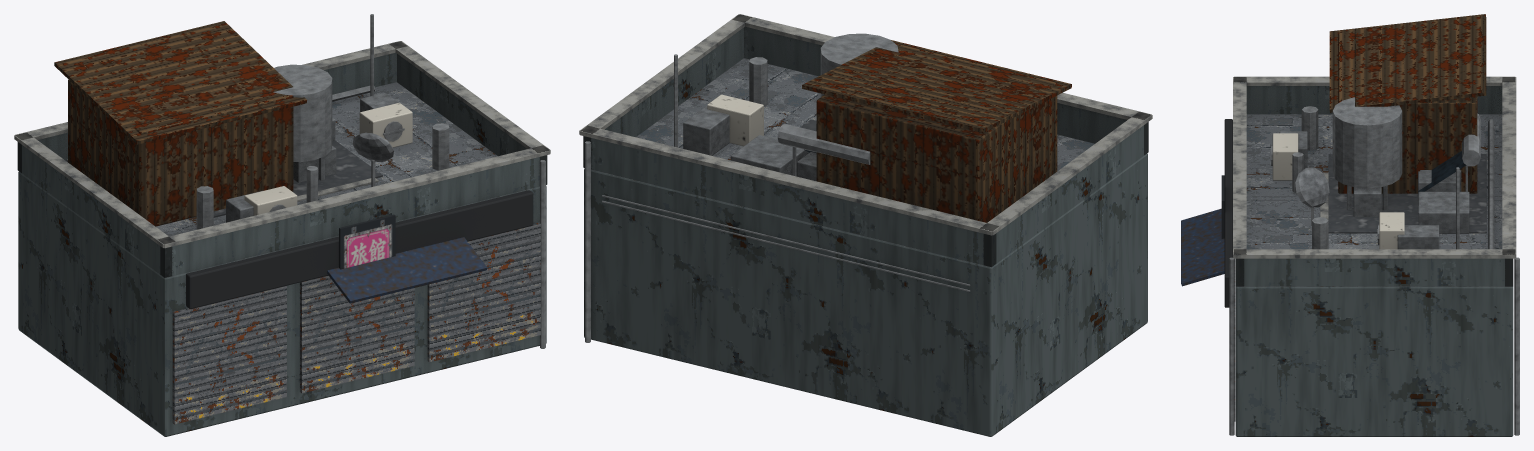
Rendered from city_row_low_b_lower.glb.
The picture shows the model from 3 angles, left to right: view 1: azimuth 30°, elevation 25°; view 2: azimuth 150°, elevation 25°; view 3: azimuth 270°, elevation 25°; orthographic projection. The views are drawn at different scales.
Visible parts, largest first — view 1: city_row_low_b_lower; view 2: city_row_low_b_lower; view 3: city_row_low_b_lower.
Part boxes in pixels (bbox=[...]): city_row_low_b_lower: bbox=[14, 14, 550, 436]; city_row_low_b_lower: bbox=[579, 14, 1152, 436]; city_row_low_b_lower: bbox=[1181, 14, 1519, 436].
Size of the model in its own units: 9.12 by 6.15 by 7.32.
13 materials, 13 textured.
